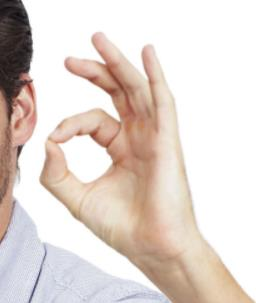left: (36, 32, 181, 261)
